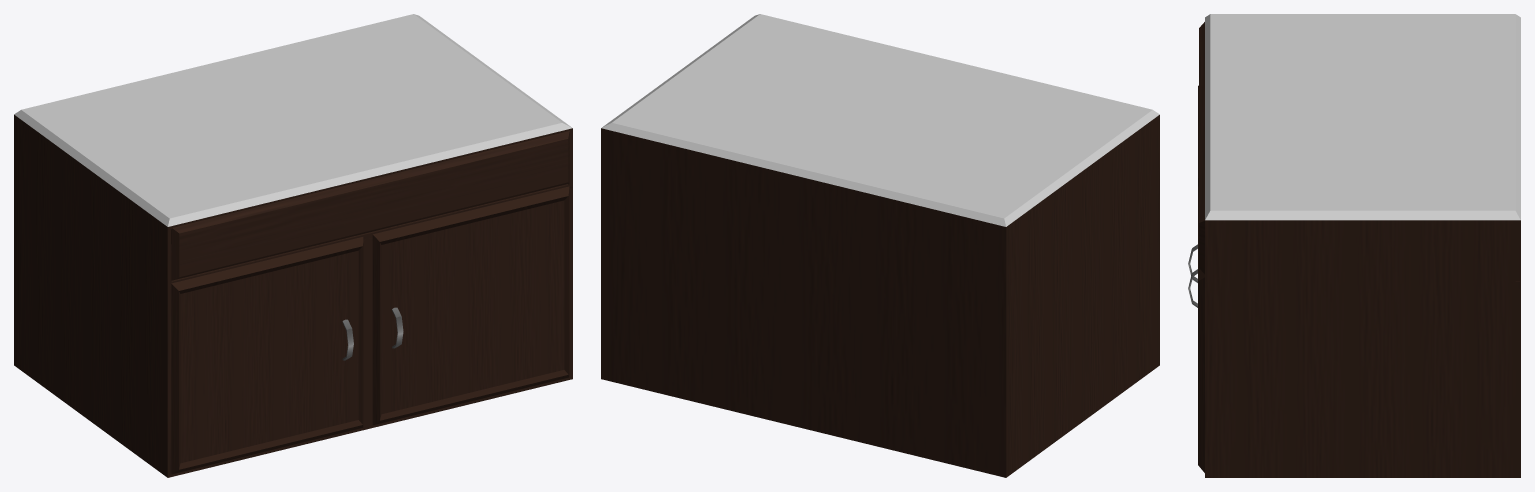
File: Open_Kitchencounter_A_6.FBX
The picture shows the model from 3 angles, left to right: view 1: azimuth 30°, elevation 25°; view 2: azimuth 150°, elevation 25°; view 3: azimuth 270°, elevation 25°; orthographic projection. The views are drawn at different scales.
Parts seen in each view (by area): view 1: Open_Counters, Door_ R_2, Door_ R_003, Drawer; view 2: Open_Counters; view 3: Open_Counters, Door_ R_2, Drawer.
Part boxes in pixels (x1=…): Open_Counters: x1=14, y1=14, x2=572, y2=477; Door_ R_2: x1=372, y1=186, x2=569, y2=425; Door_ R_003: x1=171, y1=237, x2=363, y2=474; Drawer: x1=171, y1=131, x2=569, y2=280; Open_Counters: x1=601, y1=14, x2=1159, y2=477; Open_Counters: x1=1205, y1=14, x2=1520, y2=477; Door_ R_2: x1=1188, y1=186, x2=1204, y2=472; Drawer: x1=1199, y1=22, x2=1204, y2=274.
Bounding box in the file's own units: 228 × 138 × 158.
